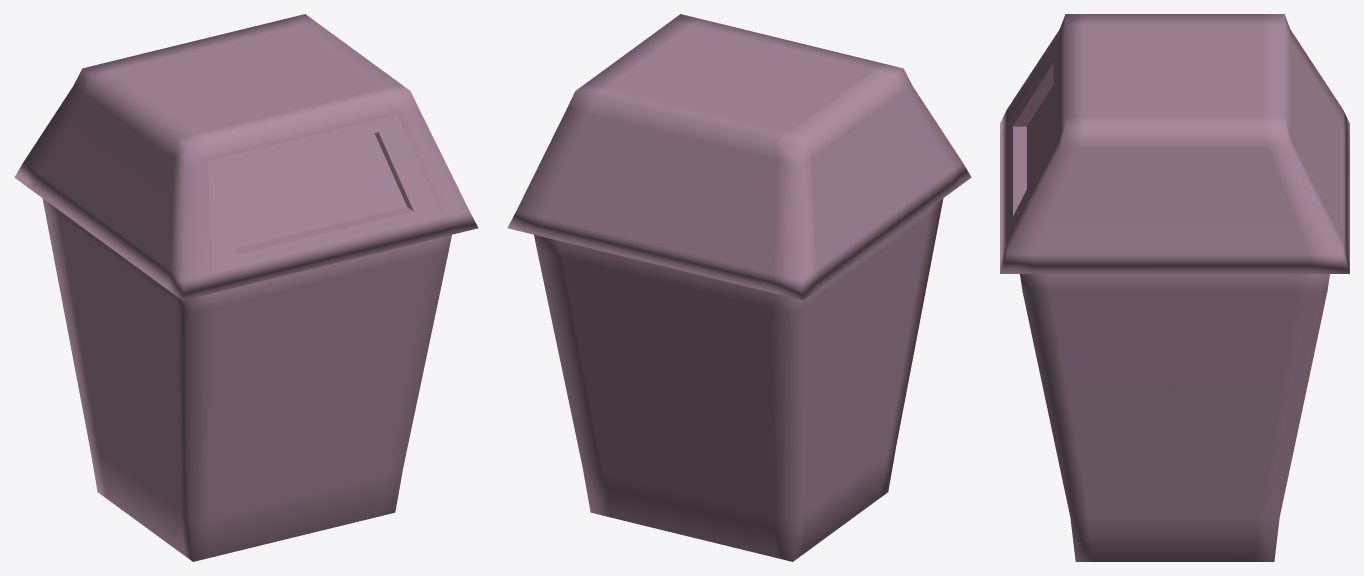
Rendered from TrashCan.fbx.
3 renders of one model, left to right at view 1: azimuth 30°, elevation 25°; view 2: azimuth 150°, elevation 25°; view 3: azimuth 270°, elevation 25°, orthographic. The views are drawn at different scales.
Visible parts, largest first — view 1: Can_Bot, Can_top; view 2: Can_Bot, Can_top; view 3: Can_top, Can_Bot.
Boxes of the visible parts, box(x1,y1,x2,y2) form: Can_Bot: box(42, 198, 451, 561); Can_top: box(14, 14, 478, 300); Can_Bot: box(534, 198, 943, 561); Can_top: box(507, 14, 971, 300); Can_top: box(1000, 14, 1349, 273); Can_Bot: box(1020, 274, 1329, 561).
Bounding box in the file's own units: 1.24 × 1.69 × 1.22.
